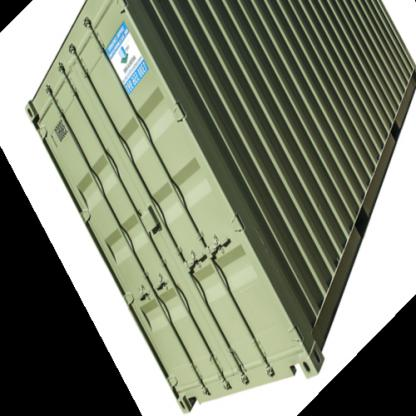Damage: (242, 223, 288, 282)
